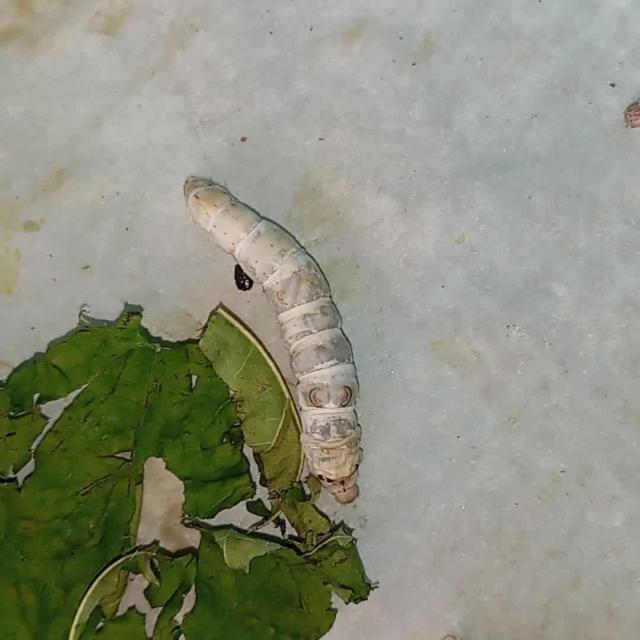Grasserie: (158, 147, 402, 541)
